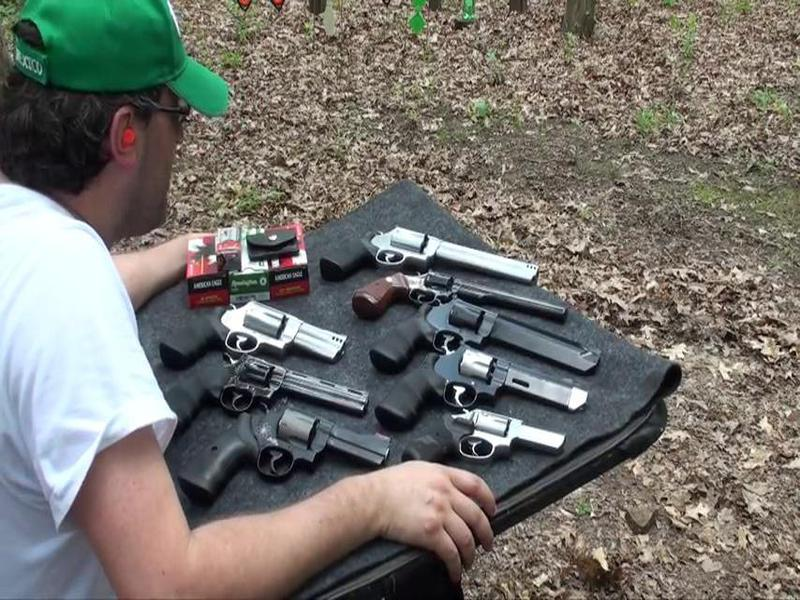Revolver: (185, 392, 395, 500)
